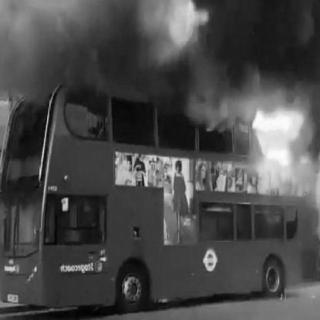Fire: (247, 98, 309, 172)
Smoke: (188, 8, 312, 92)
